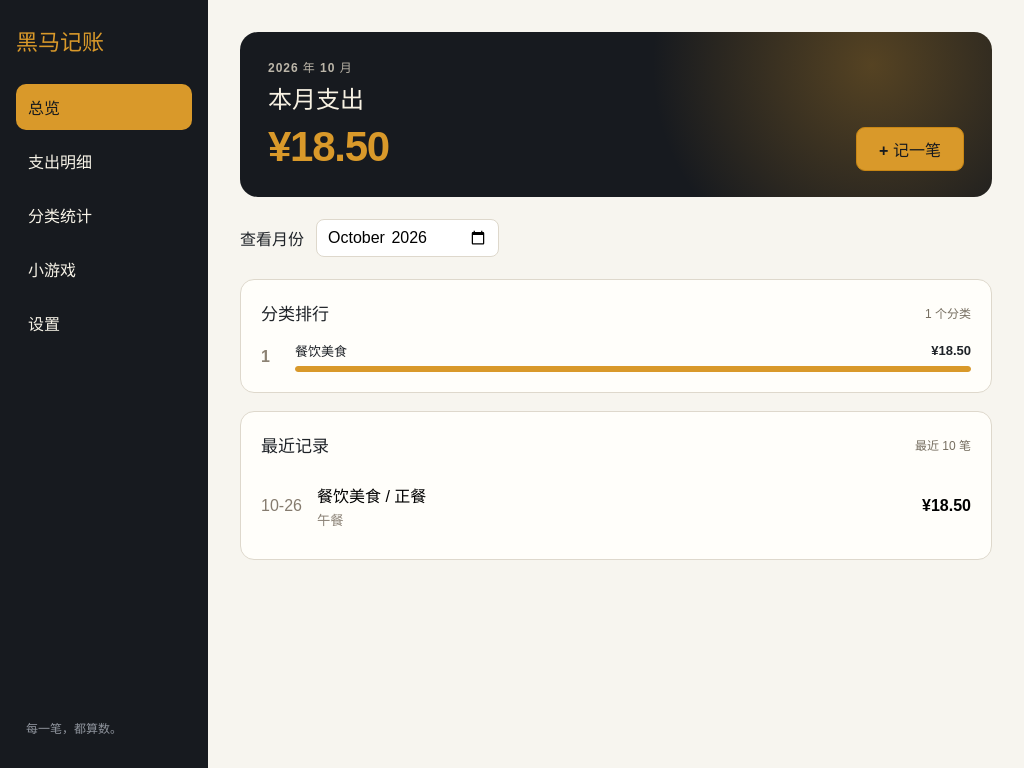
it: expense workflows › closes a confirmation dialog with Escape
This screenshot has width=1024, height=768.
Click the button "支出明细" at (104,161), box [16,138,192,184]
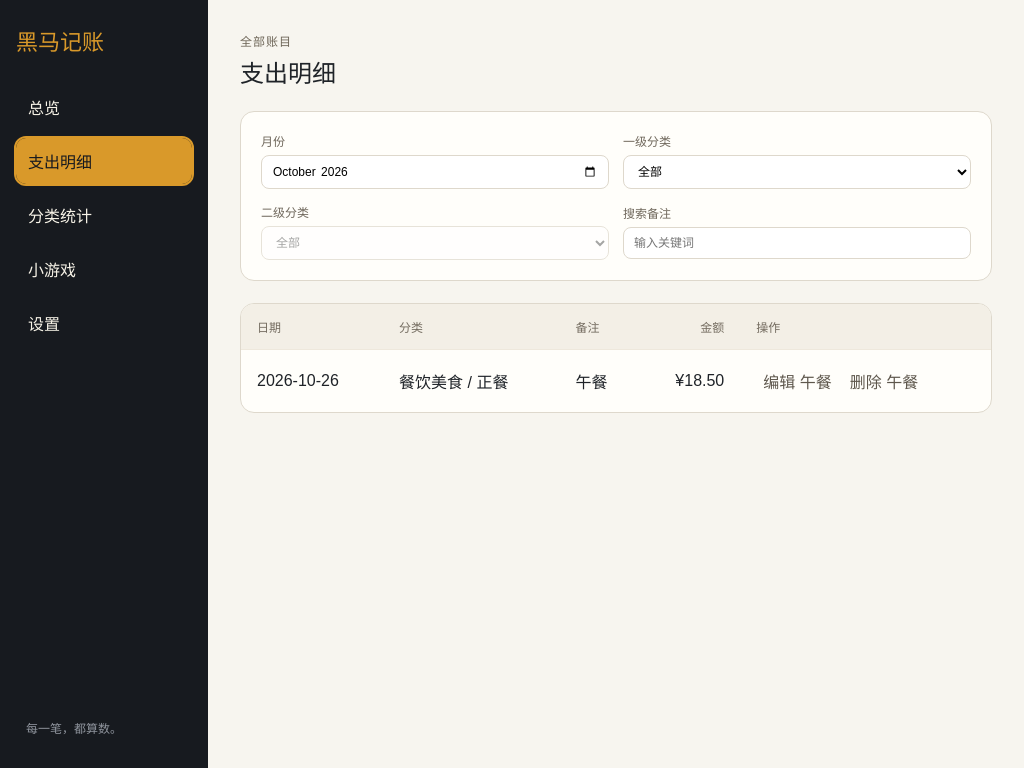
Click the button "删除 午餐" at (884,381), box [843,364,925,398]
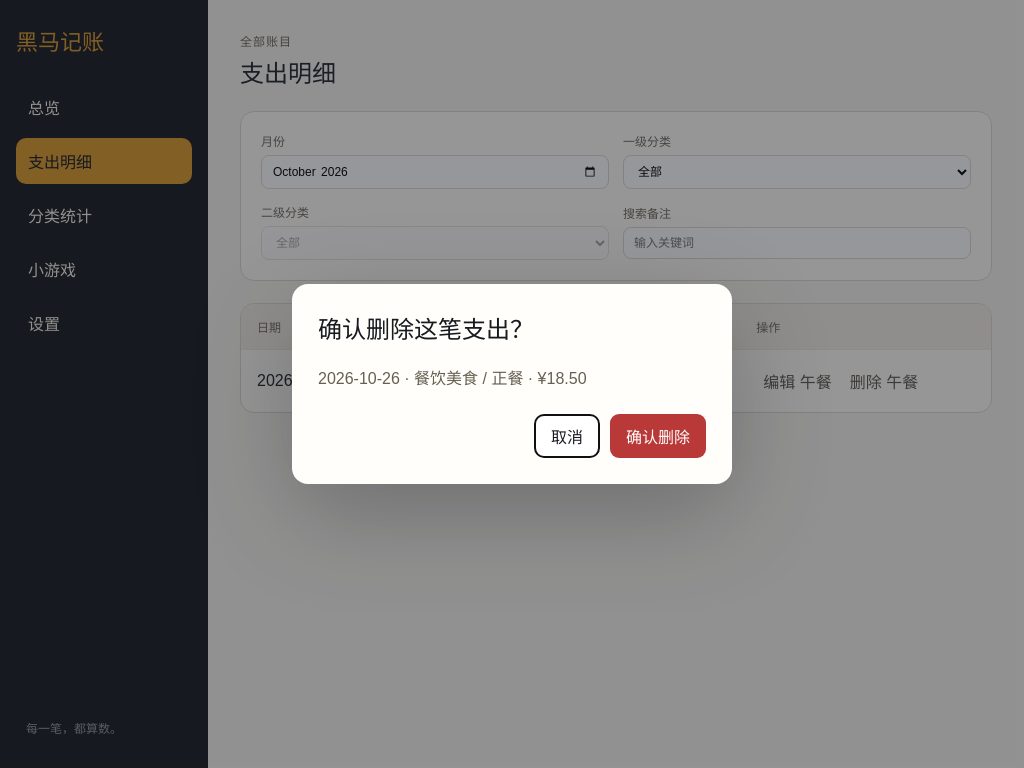
Press Escape in the dialog "确认删除这笔支出？", box [292,284,732,484]
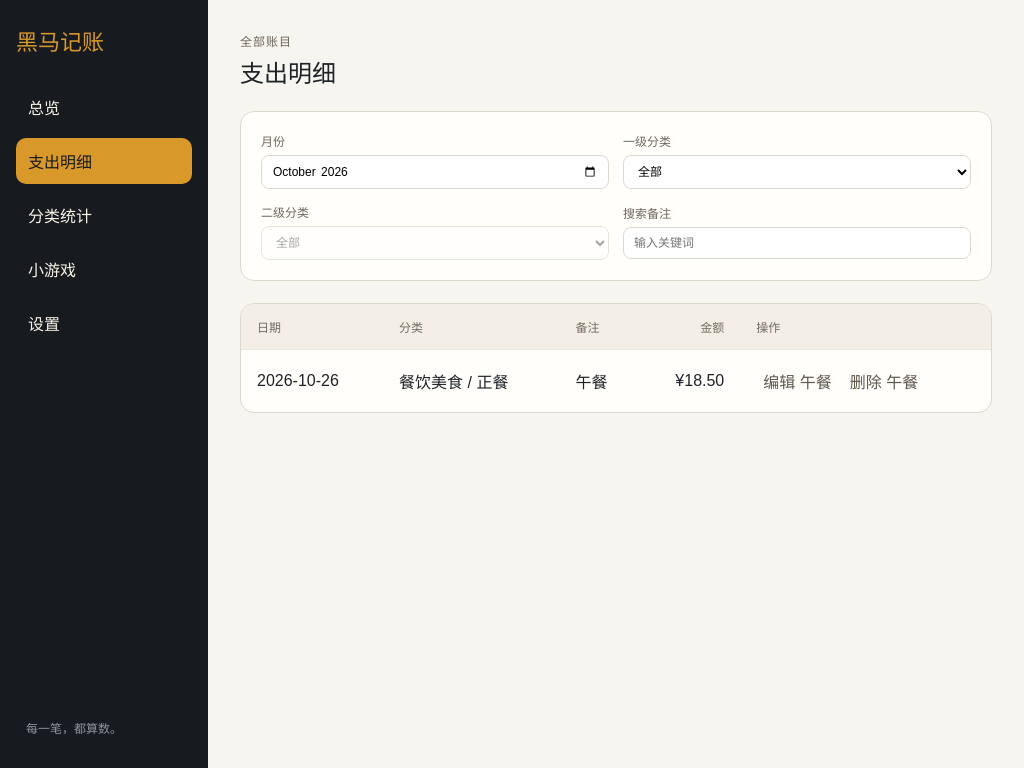
Now the heading "确认删除这笔支出？" is gone
